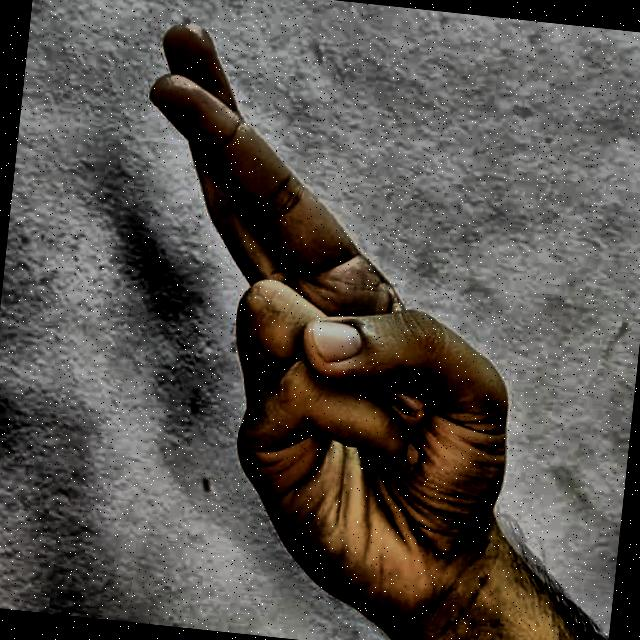Ra: (71, 5, 584, 640)
